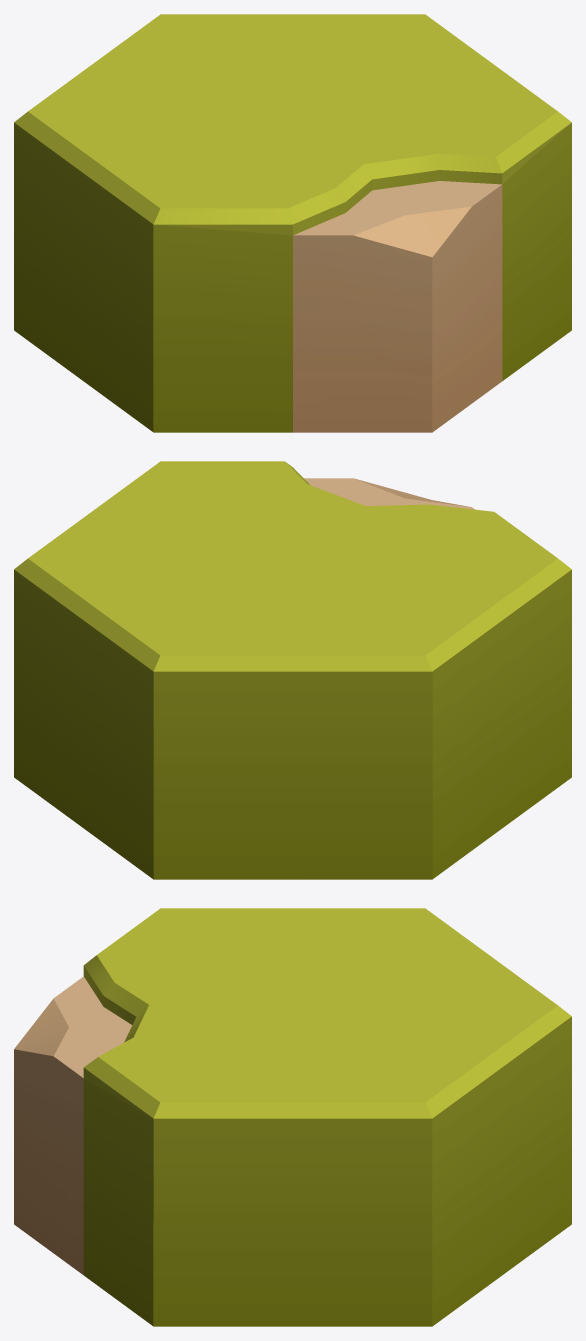
Rendered from kaykit-medieval-hexagon-pack-hex-coast-e-waterless.glb.
3 renders of one model, top to bottom at view 1: azimuth 30°, elevation 25°; view 2: azimuth 150°, elevation 25°; view 3: azimuth 270°, elevation 25°, orthographic.
Parts seen in each view (by area): view 1: hex_coast_E_waterless; view 2: hex_coast_E_waterless; view 3: hex_coast_E_waterless.
Boxes of the visible parts, x1,y1,x2,y2 form: hex_coast_E_waterless: [14, 14, 571, 432]; hex_coast_E_waterless: [14, 461, 571, 879]; hex_coast_E_waterless: [14, 908, 571, 1326].
Bounding box in the file's own units: 2 × 1 × 2.31.
1 material, 1 textured.
